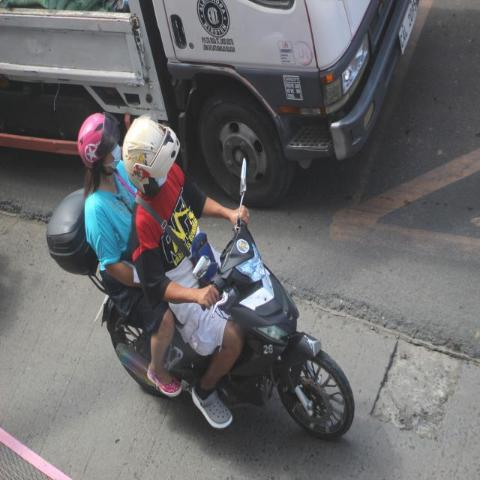motorcycle: (44, 110, 355, 441)
truck: (0, 0, 424, 201)
